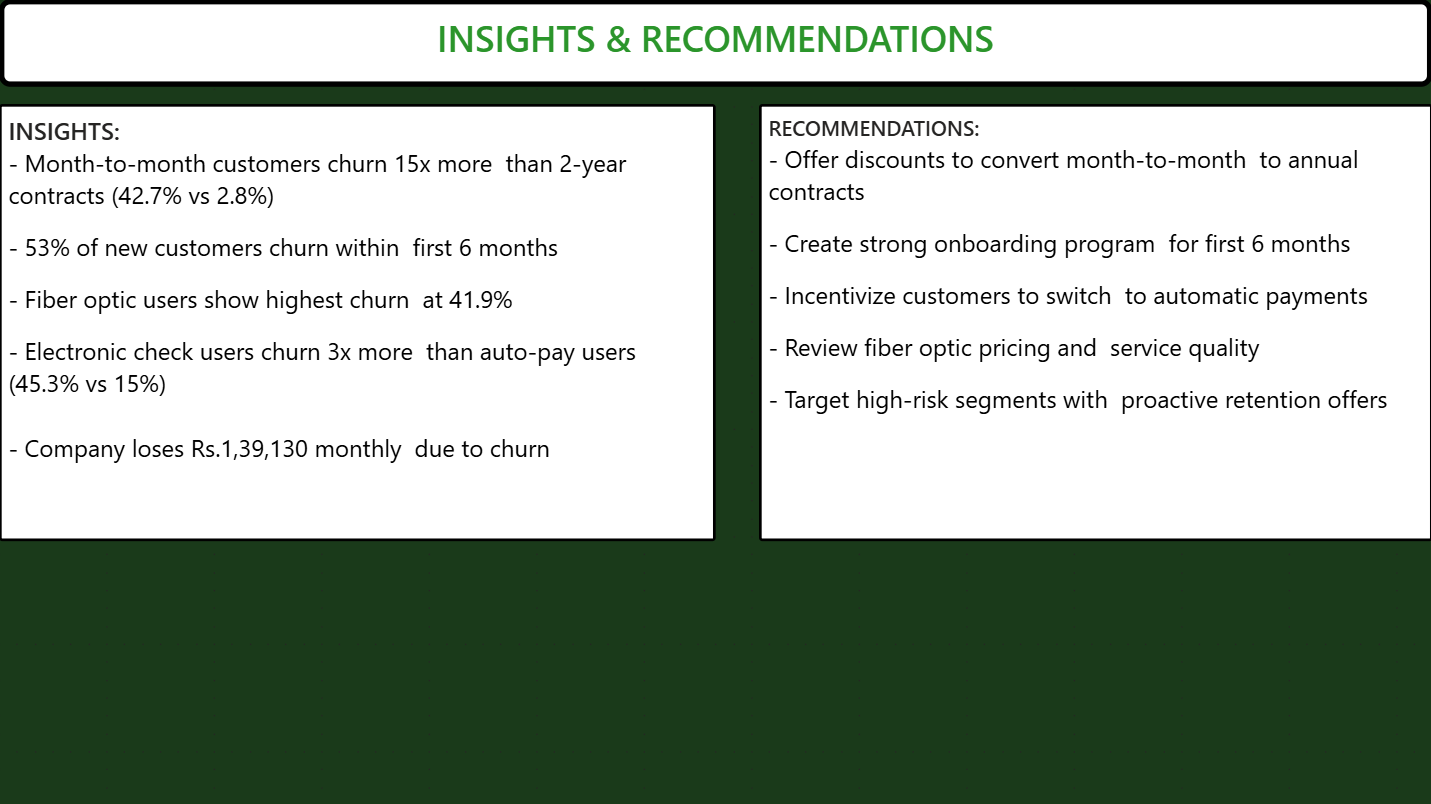

Layout of this report page (visuals, bound fields, positions):
{"tool":"powerbi","page":{"name":"INSIGHTS AND RECOMMENDATIONS","canvas":[1280,720],"ordinal":1},"visuals":[{"type":"textbox","box":[0,0,1280,78.8],"z":0},{"type":"textbox","box":[0,93.5,640,390.2],"z":1},{"type":"textbox","box":[678.2,93.5,601.8,390.2],"z":2}]}

Visuals, with their boxes in screenshot pixels (x1, y1, x2, y2), scaled from the page's 1280x720 canvas onto the 1431x804 screenshot:
textbox: (0, 0, 1430, 88)
textbox: (0, 104, 716, 540)
textbox: (758, 104, 1430, 540)
